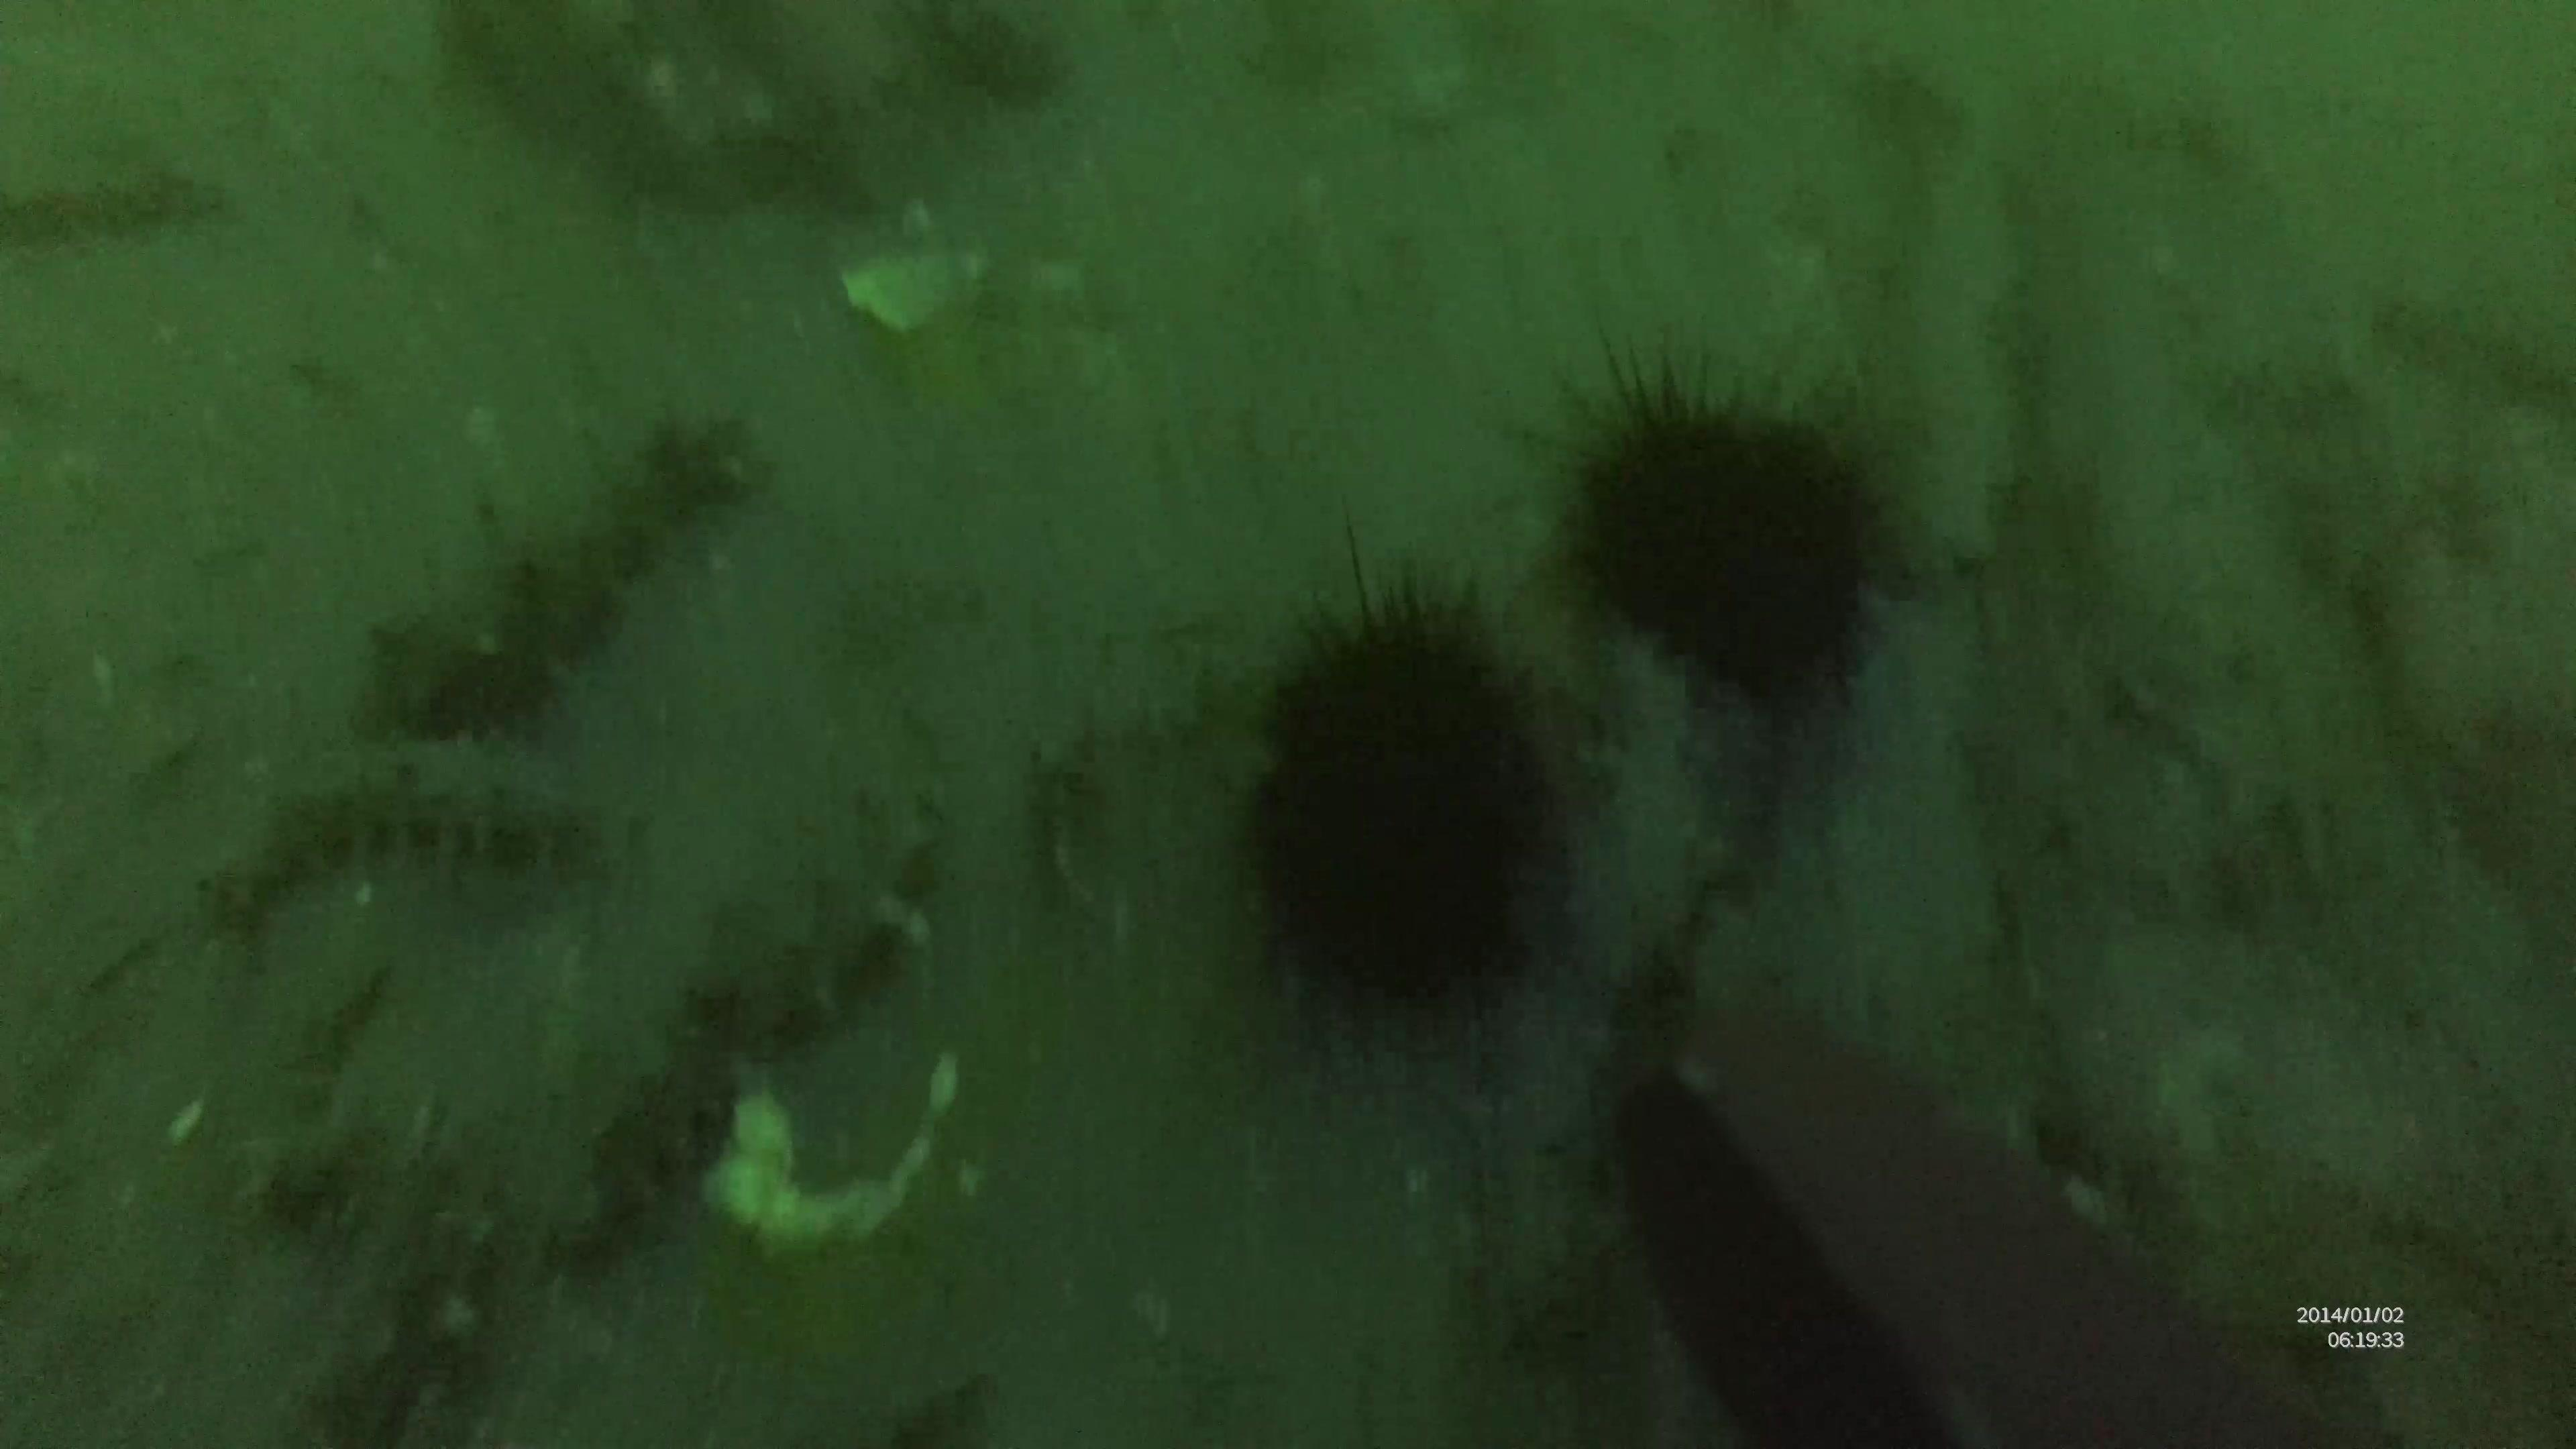echinus: (1242, 511, 1548, 1024), (1550, 338, 1916, 697)
holothurian: (540, 787, 932, 1272), (352, 418, 738, 743), (186, 740, 603, 938)
scallop: (717, 1026, 970, 1249), (824, 249, 1008, 333)
